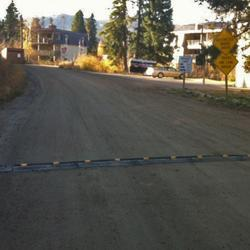Bump: (0, 146, 249, 169)
